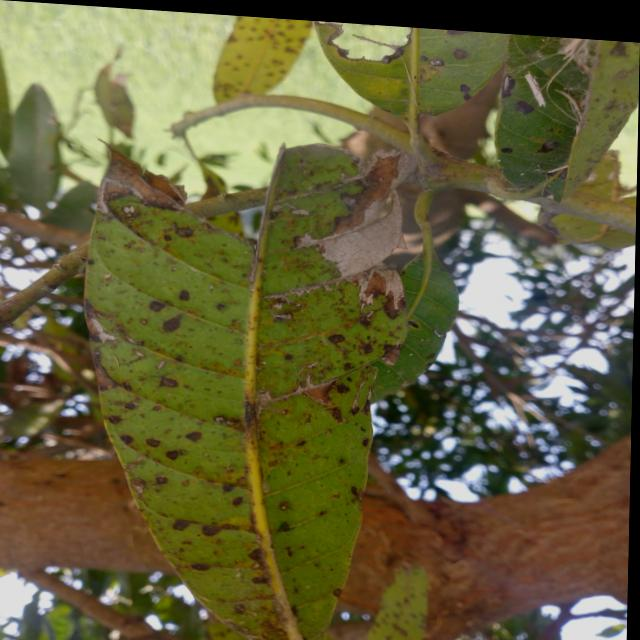Anthracnose: (200, 522, 220, 536), (184, 430, 204, 444), (248, 549, 267, 563), (164, 449, 184, 461), (117, 433, 136, 445), (170, 521, 190, 532), (230, 495, 245, 508), (219, 481, 234, 494), (143, 438, 163, 447), (249, 575, 267, 585), (195, 562, 213, 570), (153, 476, 169, 484)
Bacterial Cancer: (95, 146, 187, 221), (335, 24, 411, 67), (357, 151, 416, 206), (306, 377, 352, 412), (163, 315, 188, 334), (145, 299, 172, 313), (177, 287, 196, 303)
black die: (537, 138, 561, 156), (516, 100, 536, 116), (460, 83, 471, 95), (501, 147, 514, 155)
